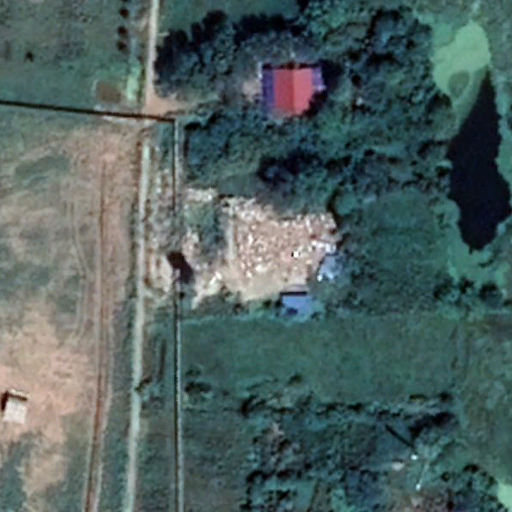msw: (220, 200, 333, 289)
